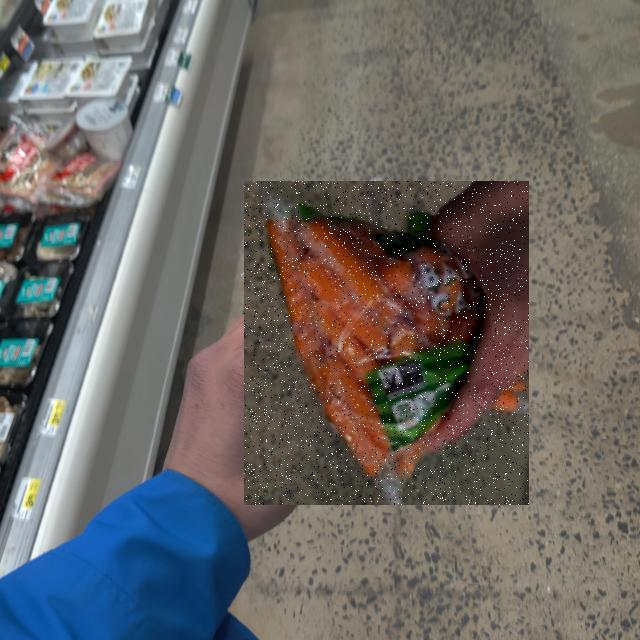Carrot: (244, 181, 529, 505)
